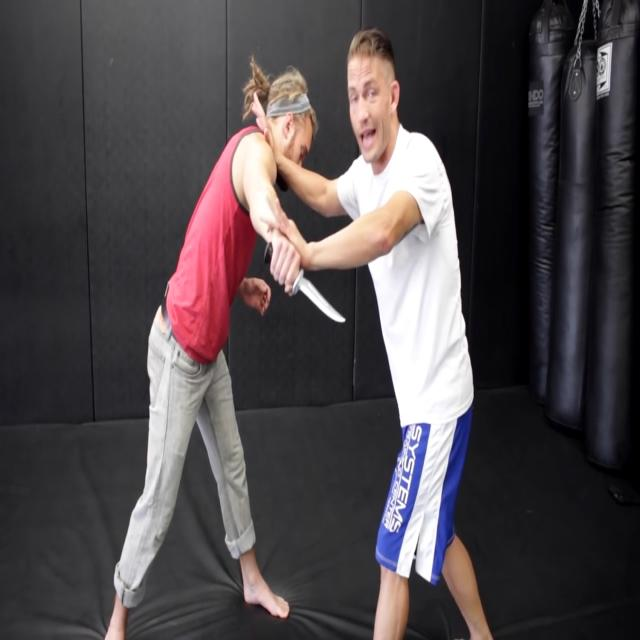knife: (264, 243, 350, 325)
